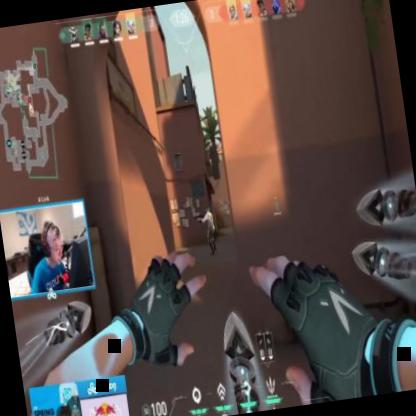enemy: (198, 204, 218, 253)
enemy_head: (204, 206, 209, 212)
